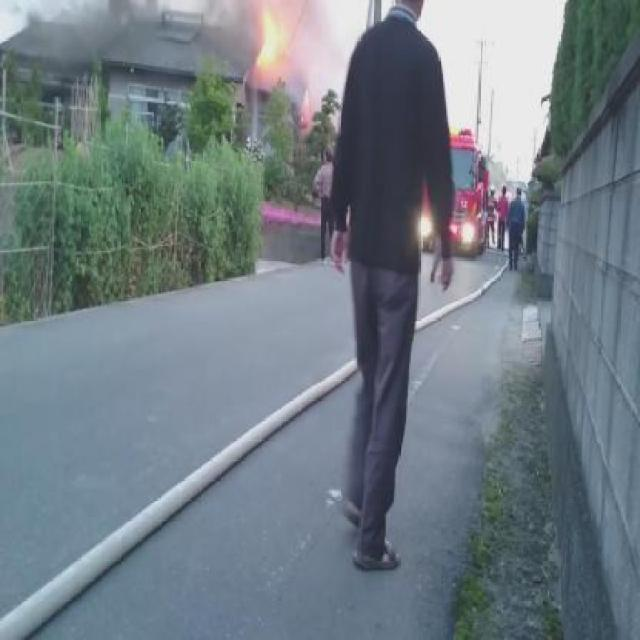Fire: (258, 10, 284, 62)
